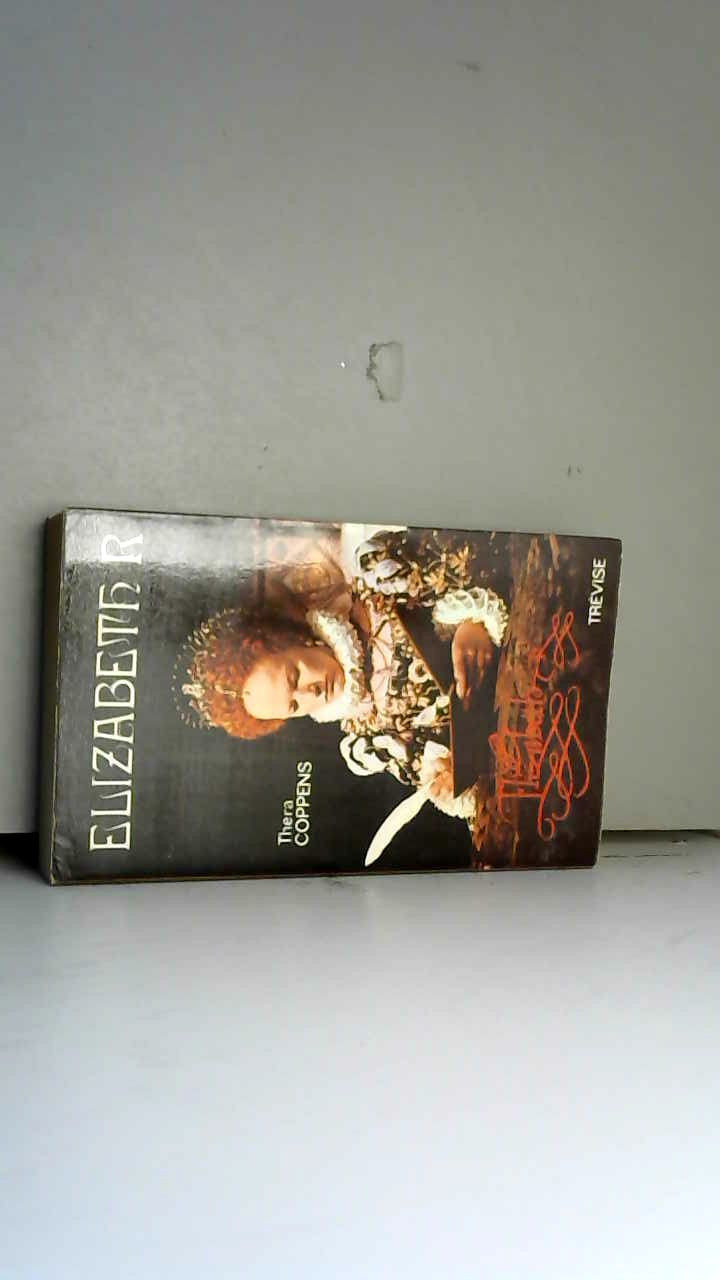book: (17, 488, 640, 904)
